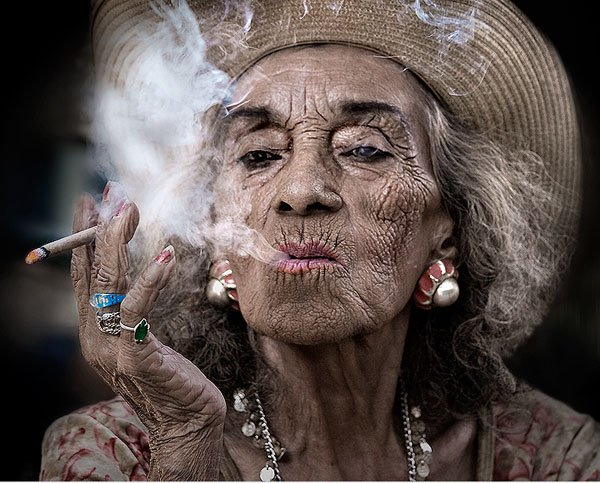cigarette: (16, 223, 114, 272)
